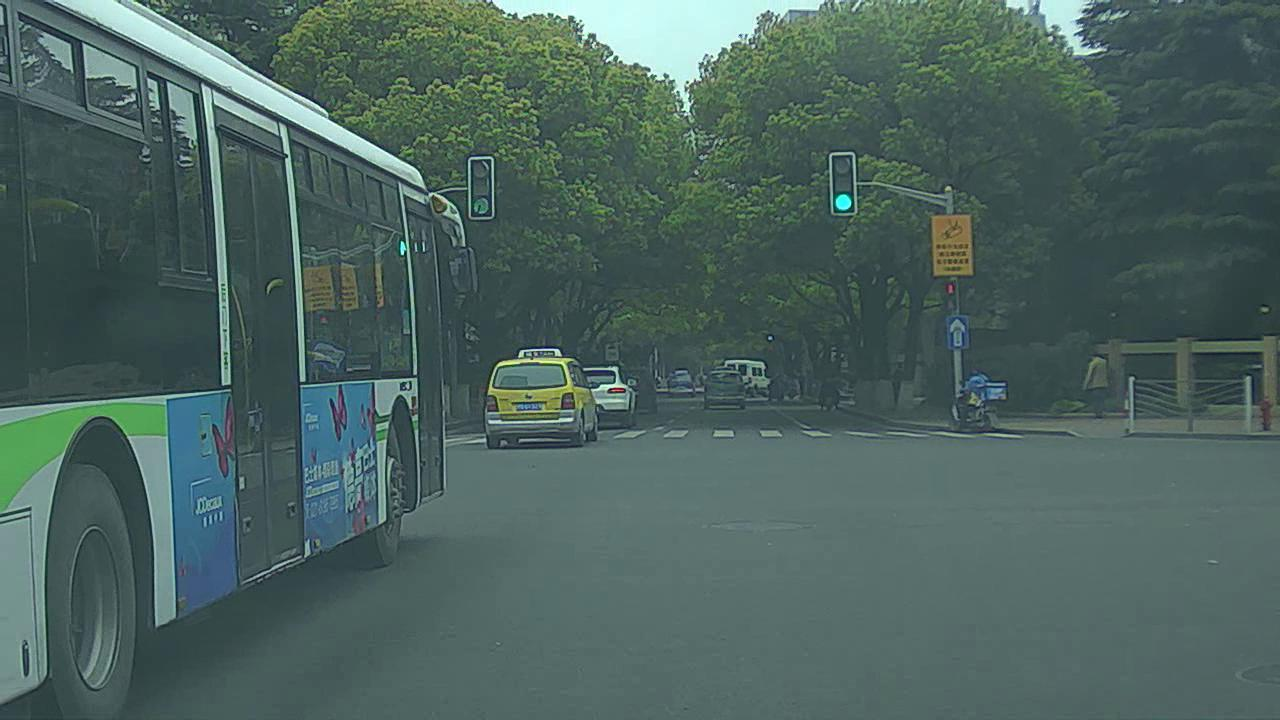traffic_light: (827, 152, 859, 216), (470, 158, 494, 215)
